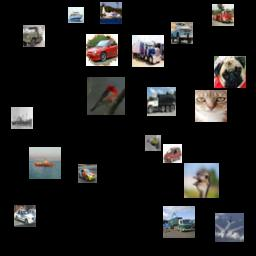airplane: (215, 213, 244, 242), (100, 2, 122, 24)
automobile: (86, 34, 118, 66), (14, 205, 36, 227), (171, 22, 193, 44), (163, 144, 182, 163), (78, 164, 97, 183)
bird: (87, 77, 125, 115), (184, 163, 219, 198), (145, 135, 161, 151)
cat: (195, 90, 227, 122)
dog: (214, 56, 246, 88)
ship: (29, 147, 61, 179), (11, 107, 33, 129), (68, 7, 84, 23)
truck: (163, 206, 195, 238), (132, 35, 164, 67), (147, 87, 176, 116), (23, 25, 45, 47), (212, 4, 234, 26)
